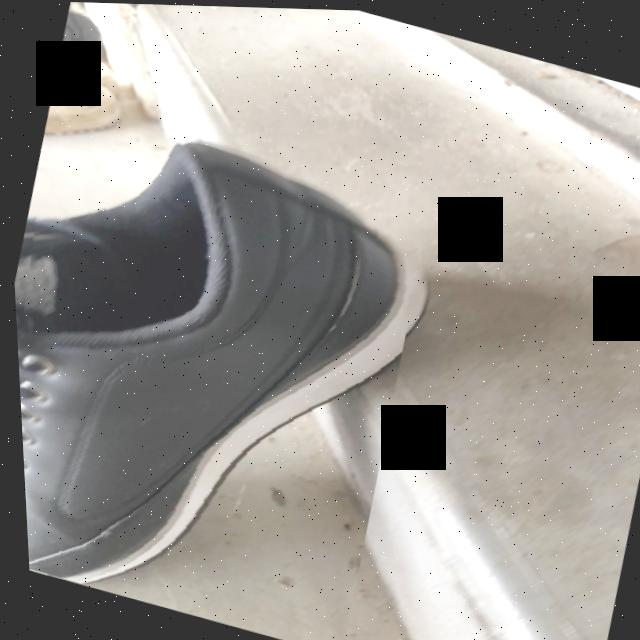shoe: (13, 141, 405, 583)
